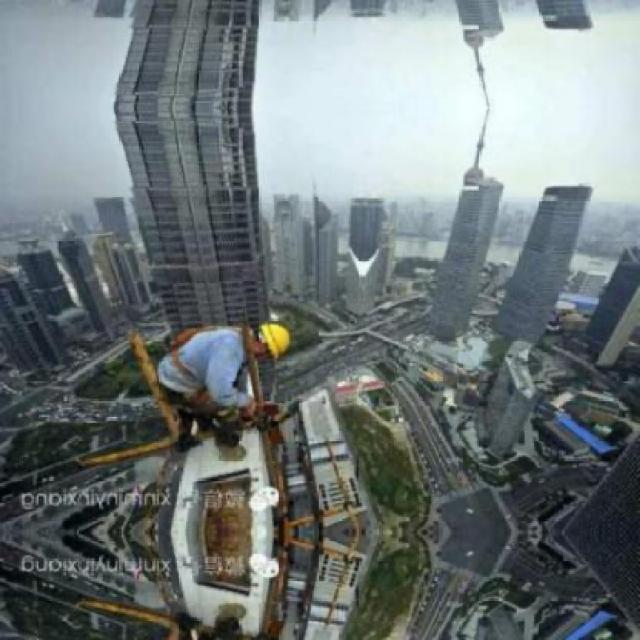helmet: (249, 317, 291, 361)
